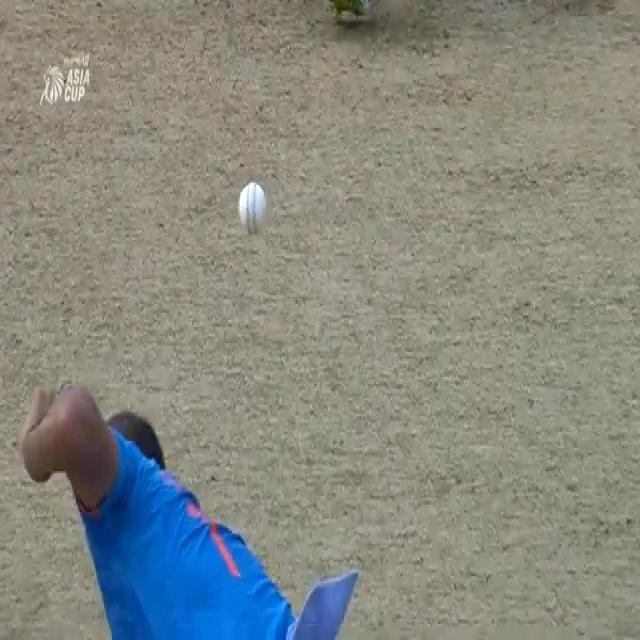Cricket ball: (236, 178, 271, 240)
